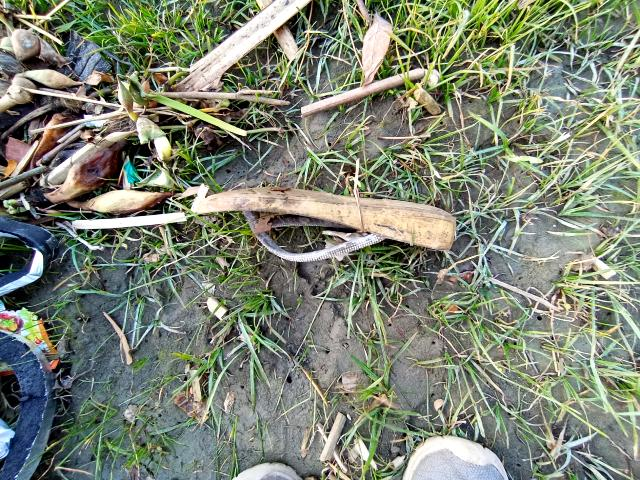sandal: (192, 175, 455, 267)
